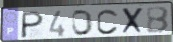4: (48, 9, 66, 38)
B: (145, 6, 170, 35)
C: (96, 8, 120, 36)
O: (71, 9, 94, 37)
P: (20, 10, 46, 39)
X: (120, 6, 145, 36)
